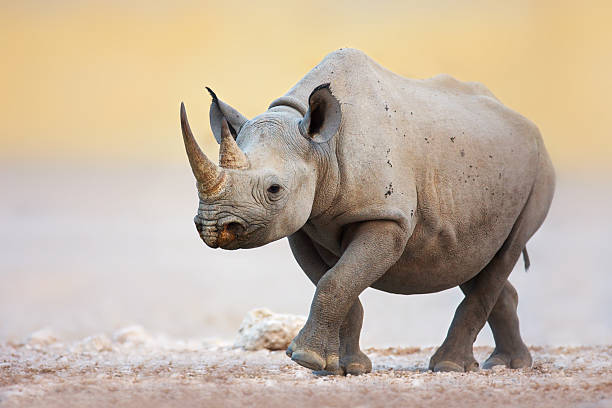rhino: (150, 67, 350, 265)
